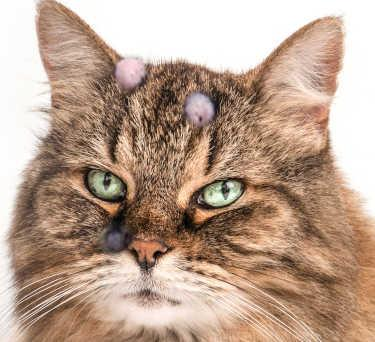lump_and_bump: (116, 55, 146, 93), (188, 92, 212, 129), (107, 230, 130, 251)
